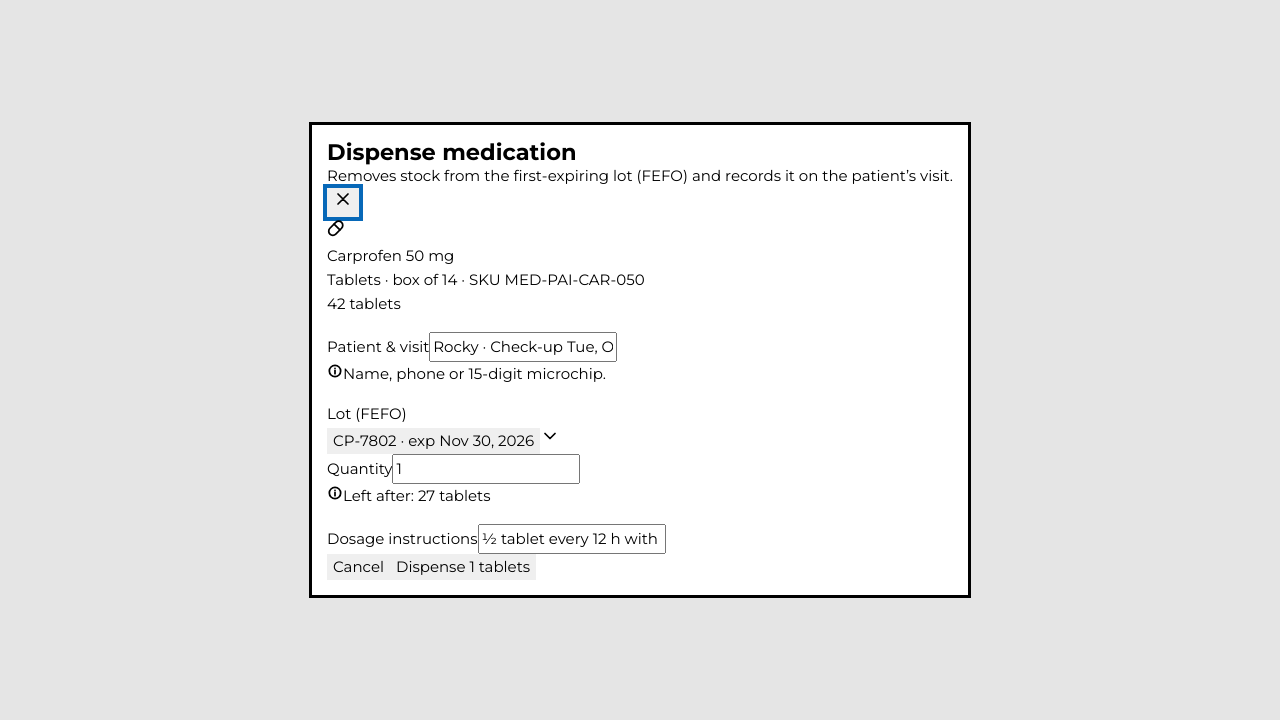
DispenseModal › does not dispense more than the lot has
The image size is (1280, 720).
Replace the text in the field labelled "Quantity" with "40": [486, 469] box [392,454,580,484]
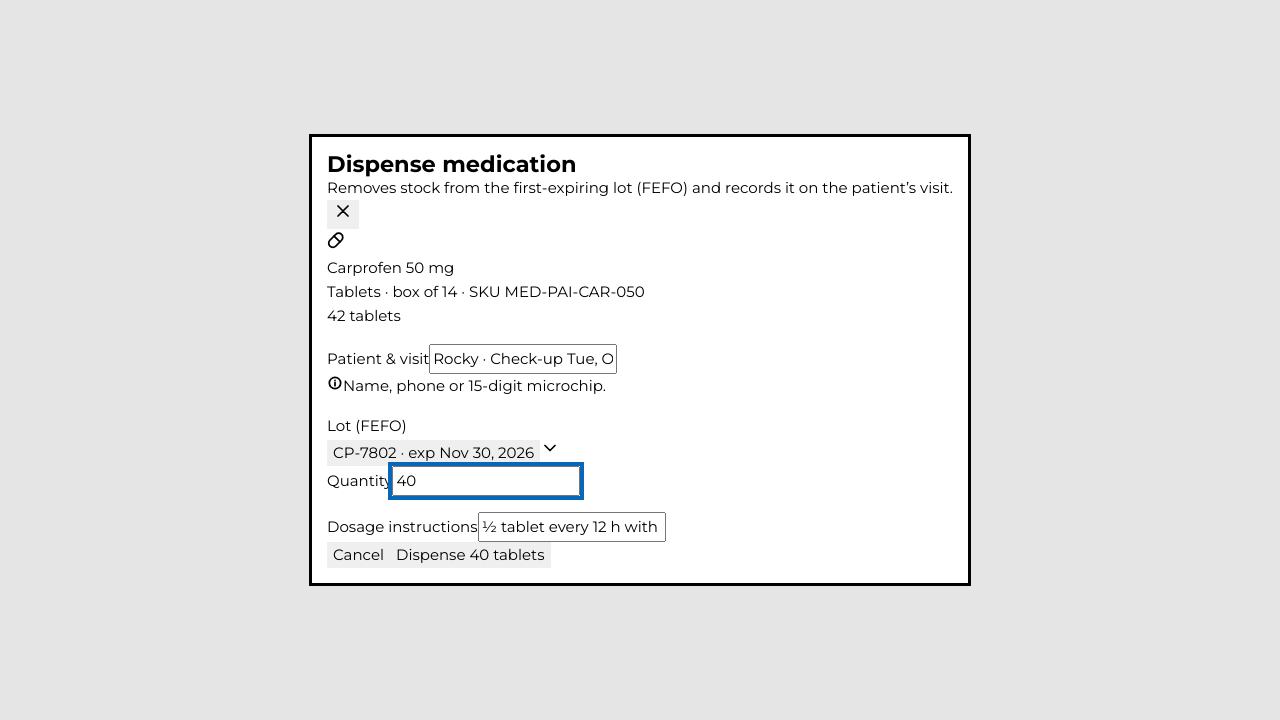
Click the button "Dispense 40 tablets": [470, 555] box [390,542,550,568]
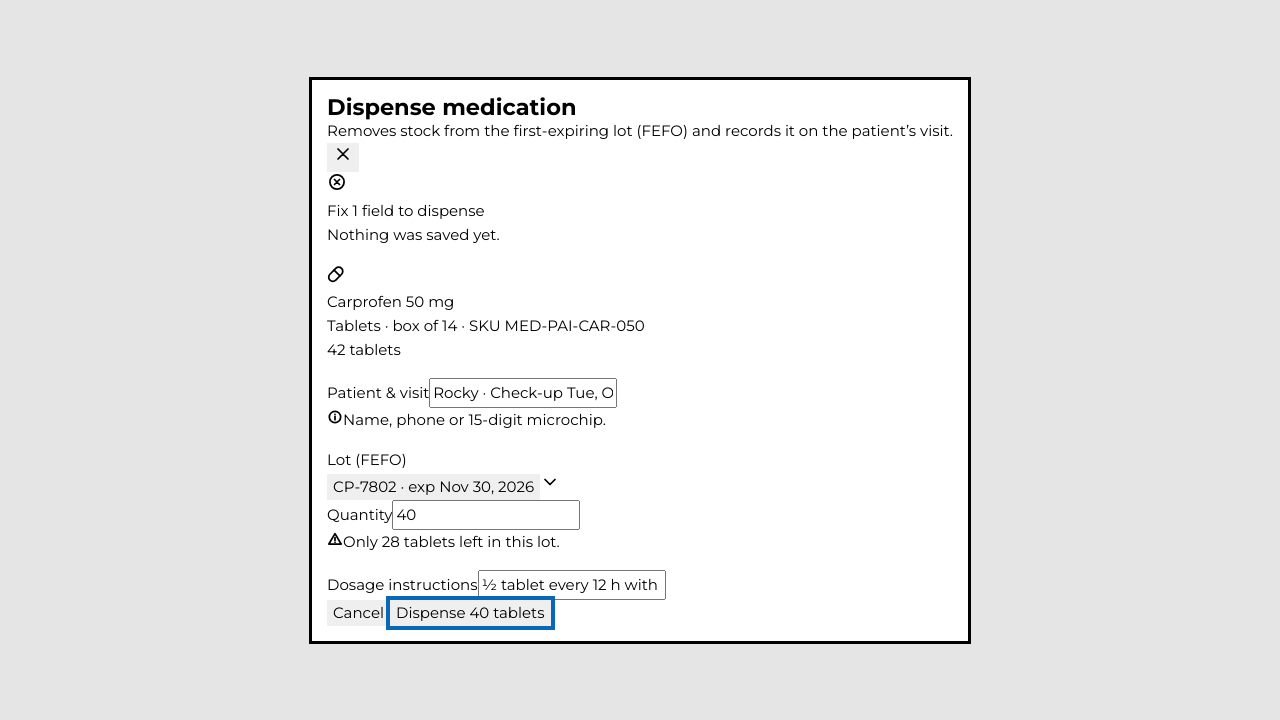
Expected: the text "Only 28 tablets left in this lot." is shown, [343,532,560,550]
